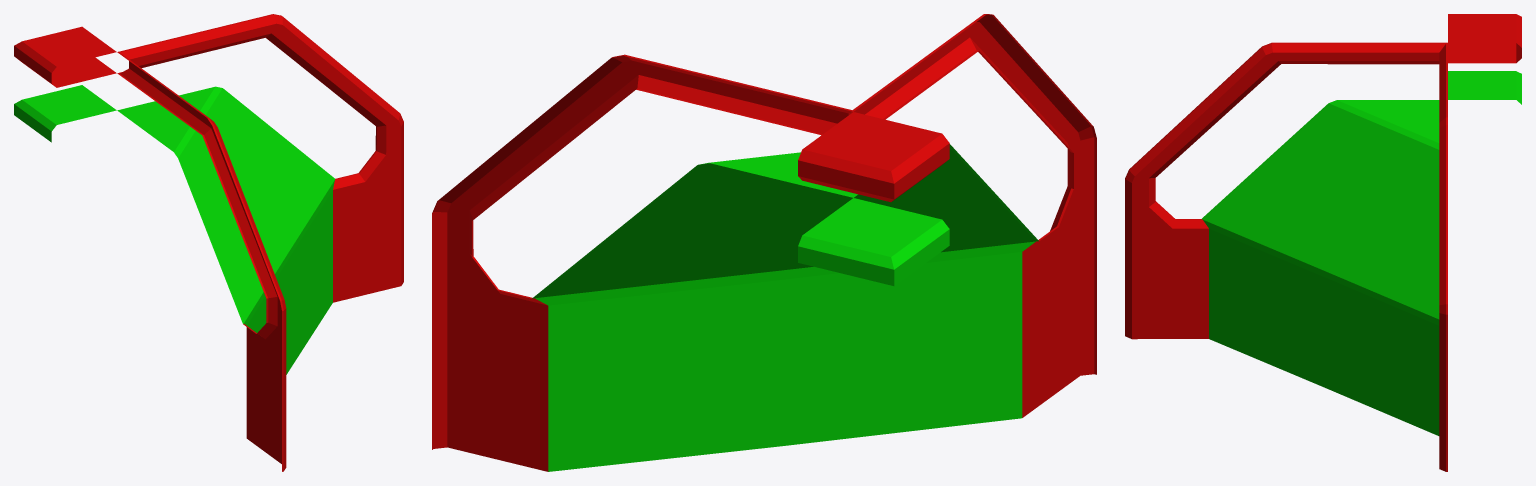
The model's file is PlainteCoin.FBX.
3 renders of one model, left to right at view 1: azimuth 30°, elevation 25°; view 2: azimuth 150°, elevation 25°; view 3: azimuth 270°, elevation 25°, orthographic. The views are drawn at different scales.
Parts seen in each view (by area): view 1: Object005; view 2: Object005; view 3: Object005.
Boxes of the visible parts, left/top/right/bottom form: Object005: left=14, top=14, right=403, bottom=471; Object005: left=432, top=14, right=1096, bottom=471; Object005: left=1125, top=14, right=1521, bottom=471.
Size of the model in its own units: 24.56 by 20.01 by 24.56.
